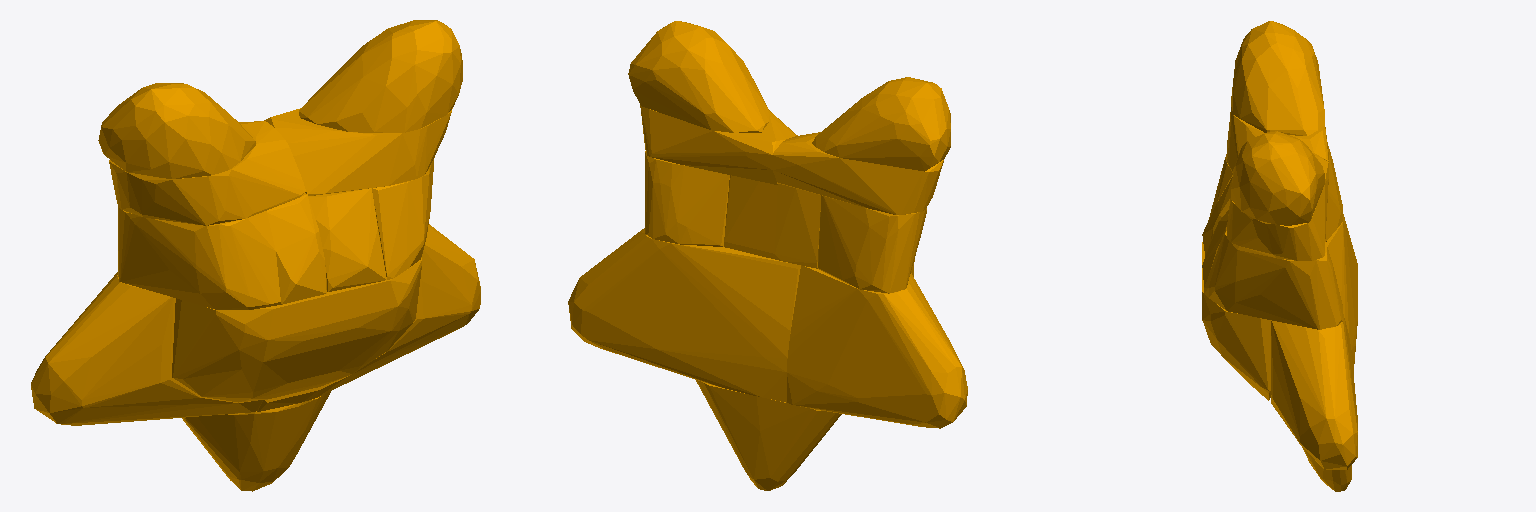
The robot description file, URDF, robot "starfish":
<?xml version="1.0"?>
<robot name="starfish">

  <link name="base_link">
    <visual>
      <geometry>
        <mesh filename="package://starfish/starfish2_vhacd.dae" scale=".1 .1 .1"/>
      </geometry>
    </visual>
    <collision>
      <geometry>
        <mesh filename="package://starfish/starfish2_vhacd.obj" scale=".1 .1 .1" />
      </geometry>
    </collision>
  </link>

</robot>

--- Facts derived from the render (not from the file) ---
Views: 3 orthographic renders of the robot side by side, from view 1: azimuth 30°, elevation 25°; view 2: azimuth 150°, elevation 25°; view 3: azimuth 270°, elevation 25°.
Robot: starfish — 1 links, 0 joints (none); root link base_link; default pose: every joint at zero.
Links seen in each view (by area): view 1: base_link; view 2: base_link; view 3: base_link.
Link boxes in pixels (x1,y1,x2,y2): base_link: [31, 20, 480, 491]; base_link: [568, 21, 967, 490]; base_link: [1202, 21, 1357, 491].
Bounding box of the posed robot: 0.3705 × 0.128 × 0.3705 m (x, y, z).
Meshes: 1 distinct files referenced, 1 mesh visuals loaded (1 Collada DAE).